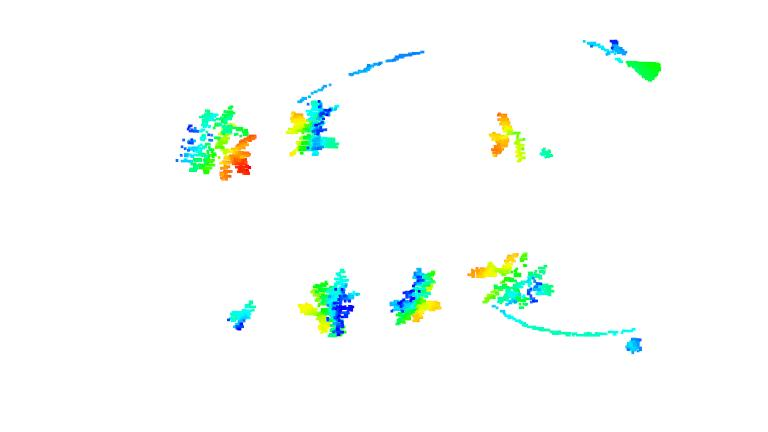chickpea: (174, 100, 260, 179), (472, 246, 558, 311), (295, 266, 366, 339), (482, 108, 554, 165), (385, 265, 447, 328), (287, 89, 341, 160), (221, 297, 261, 331)
